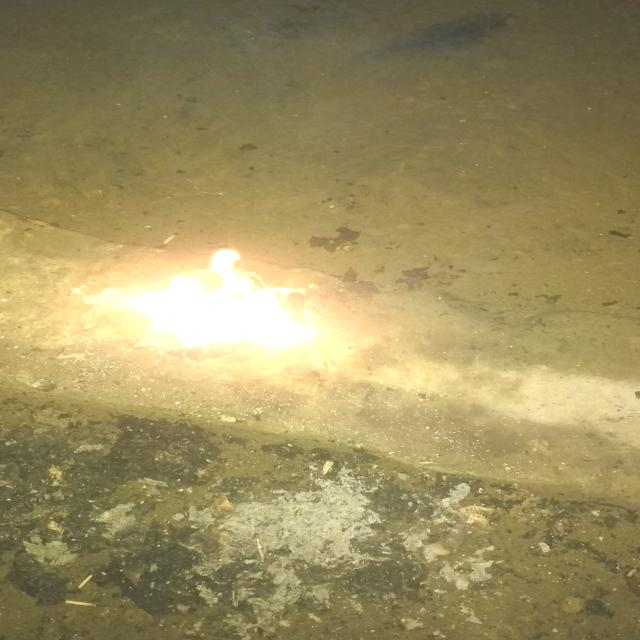firerotation: (92, 243, 331, 362)
